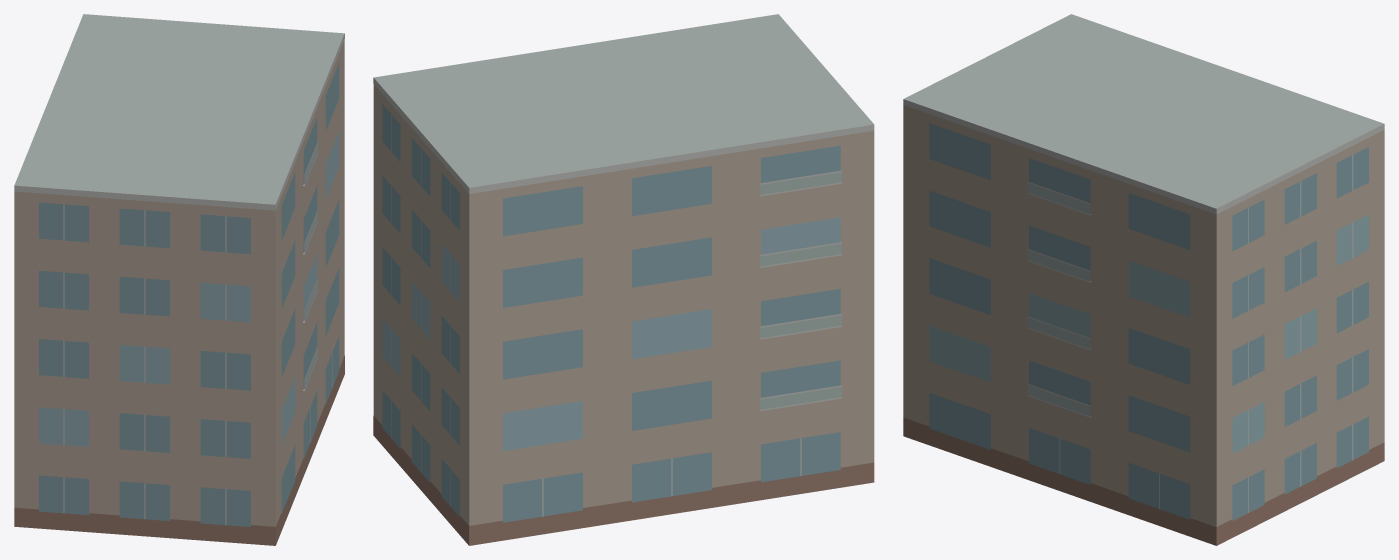
The model's file is survey-upis-32881773.glb.
3 views of the same model, side by side, from view 1: azimuth 30°, elevation 25°; view 2: azimuth 150°, elevation 25°; view 3: azimuth 270°, elevation 25° (orthographic). The views are drawn at different scales.
Parts seen in each view (by area): view 1: survey-upis-32881773.tmp; view 2: survey-upis-32881773.tmp; view 3: survey-upis-32881773.tmp.
Part boxes in pixels (left/top/right/bottom): survey-upis-32881773.tmp: left=14, top=14, right=344, bottom=545; survey-upis-32881773.tmp: left=373, top=14, right=874, bottom=545; survey-upis-32881773.tmp: left=903, top=14, right=1384, bottom=545.
Size of the model in its own units: 17.48 by 14.1 by 18.25.
